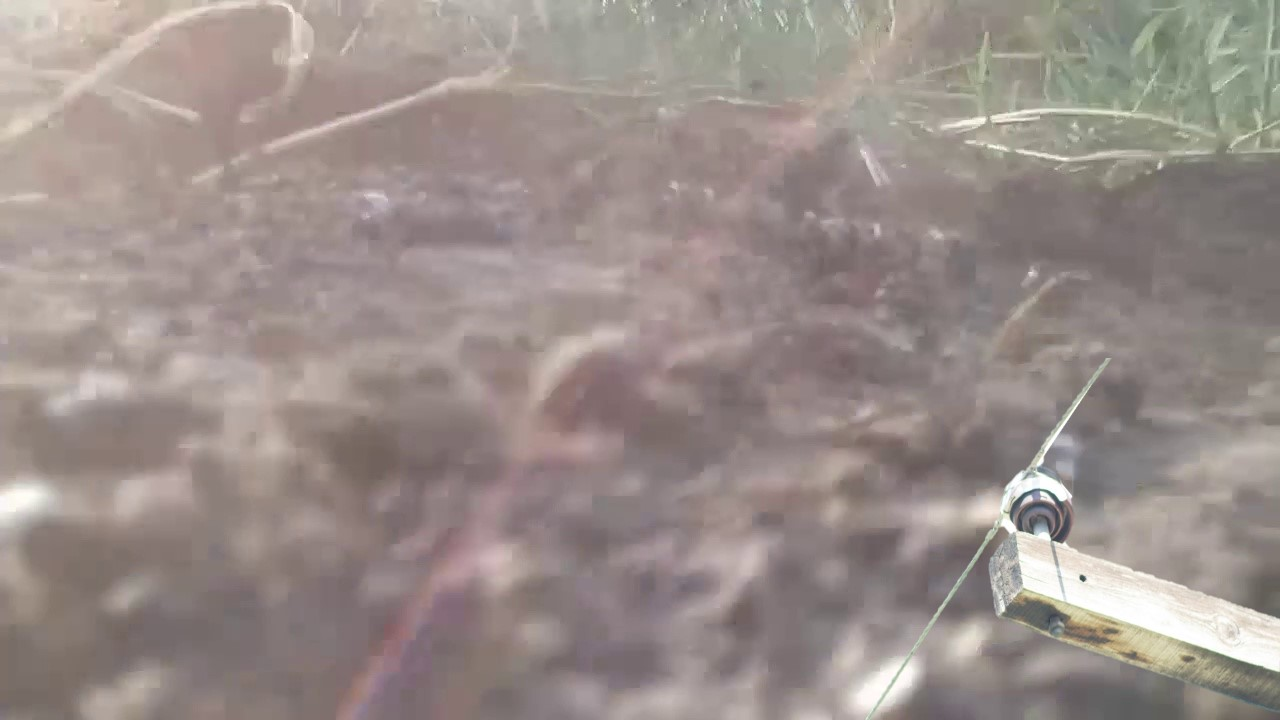defect_pin: (997, 461, 1078, 542)
